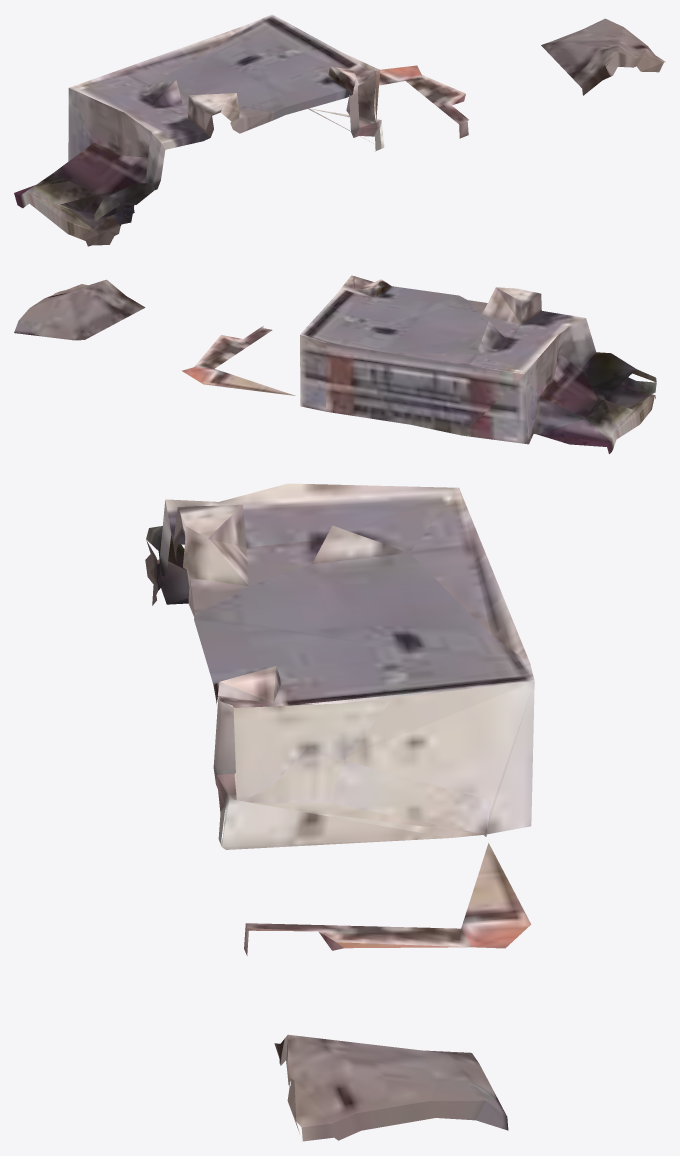
3 views of the same model, one above another, from view 1: azimuth 30°, elevation 25°; view 2: azimuth 150°, elevation 25°; view 3: azimuth 270°, elevation 25° (orthographic). The views are drawn at different scales.
Visible parts, largest first — view 1: Mesh_0; view 2: Mesh_0; view 3: Mesh_0.
Boxes of the visible parts, box(x1,y1,x2,y2) form: Mesh_0: box(14, 14, 665, 246); Mesh_0: box(14, 275, 656, 453); Mesh_0: box(145, 483, 534, 1141).
Bounding box in the file's own units: 59.16 × 9.9 × 17.35.
1 material, 1 textured.
